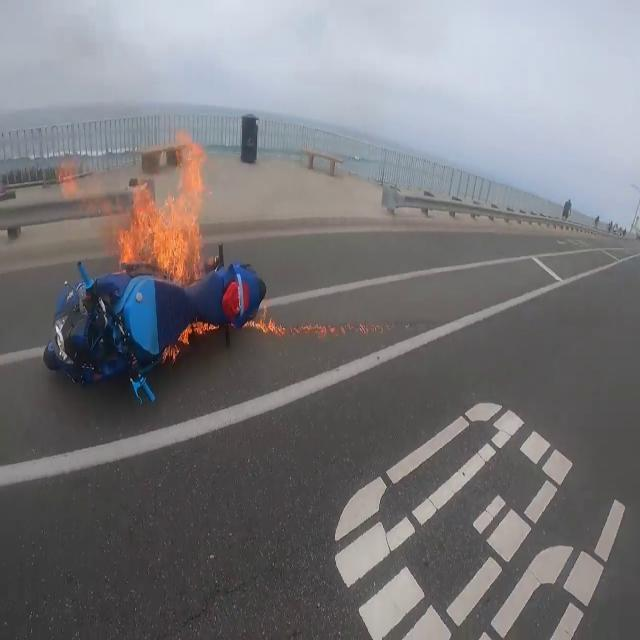Fire: (116, 132, 214, 284), (176, 315, 215, 348), (249, 302, 282, 336)
